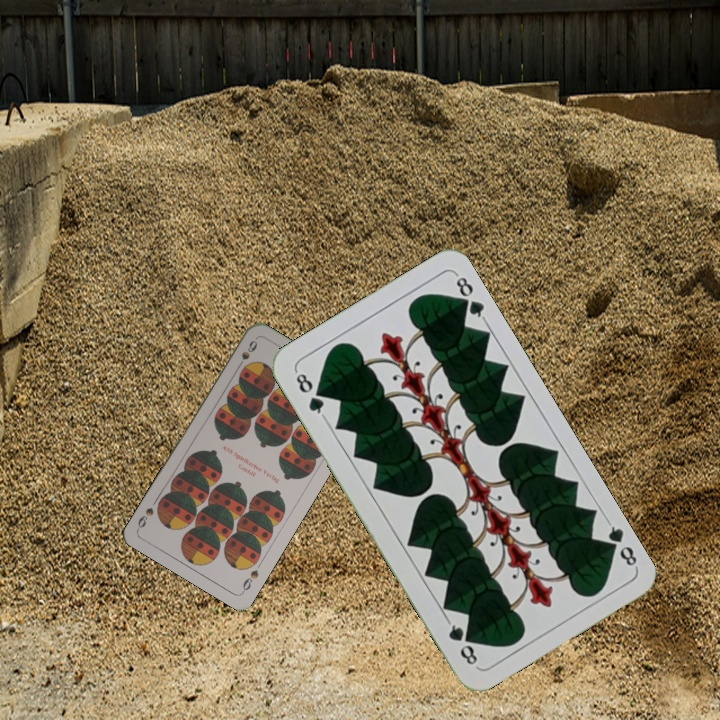G8: (599, 517, 641, 571), (291, 367, 328, 420)
S9: (233, 336, 260, 372), (238, 565, 261, 596)
